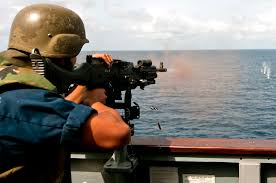gun: (29, 46, 169, 97)
